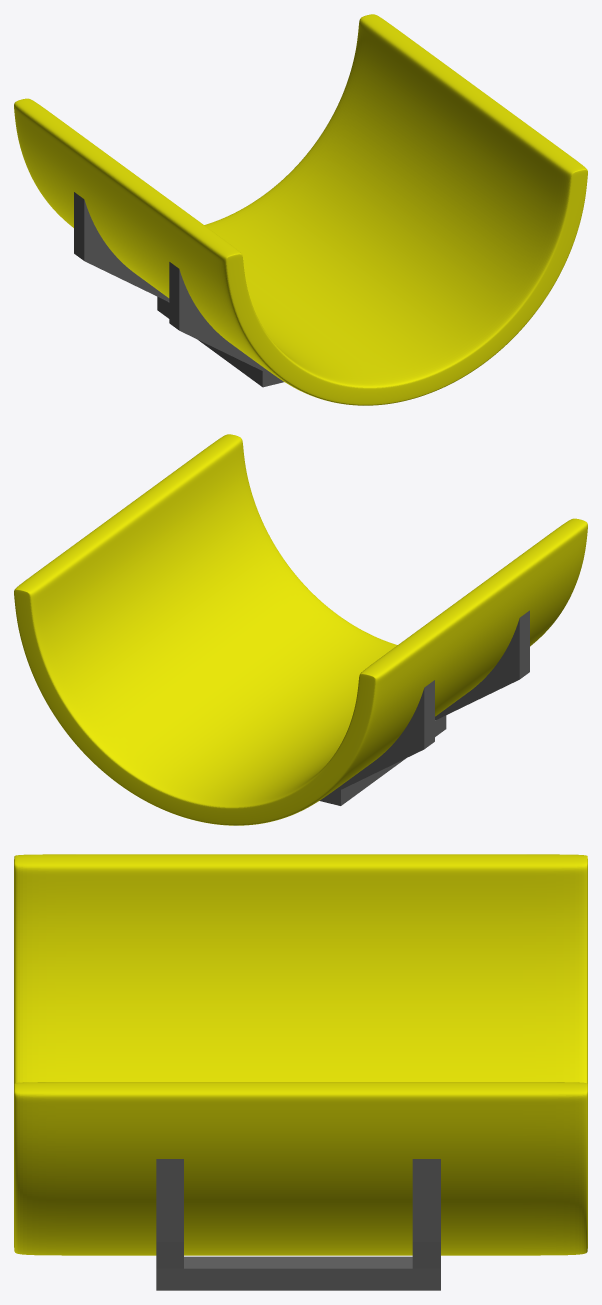
The model's file is pipe attach.fbx.
3 renders of one model, top to bottom at view 1: azimuth 30°, elevation 25°; view 2: azimuth 150°, elevation 25°; view 3: azimuth 270°, elevation 25°, orthographic. The views are drawn at different scales.
Parts seen in each view (by area): view 1: Cylinder, block; view 2: Cylinder, block; view 3: Cylinder, block.
Part boxes in pixels (x1,y1,x2,y2): Cylinder: (14,14,587,405); block: (74,192,283,387); Cylinder: (14,434,587,825); block: (319,610,529,805); Cylinder: (14,854,587,1255); block: (156,1159,440,1290).
Size of the model in its own units: 99.64 by 49.87 by 100.
